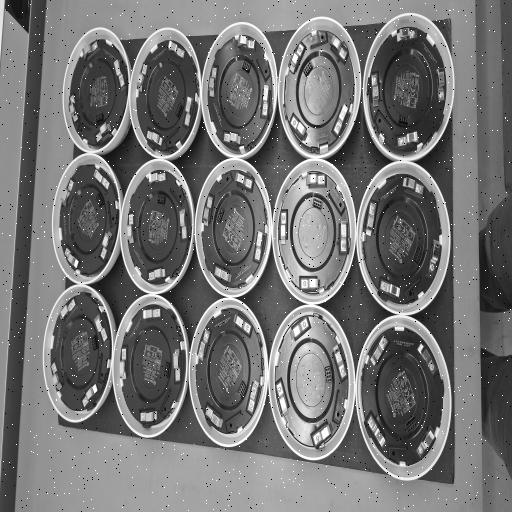konnektor: (406, 415, 418, 434), (413, 245, 423, 264), (237, 380, 246, 399), (216, 206, 226, 223), (303, 60, 313, 76), (324, 365, 332, 384), (398, 113, 409, 125), (163, 362, 171, 378), (95, 192, 103, 208), (174, 102, 182, 118), (242, 60, 251, 73), (91, 334, 98, 350), (96, 112, 104, 124), (157, 194, 165, 205)
yayli: (366, 412, 386, 448), (418, 342, 438, 376), (310, 420, 333, 448), (416, 427, 436, 459), (332, 342, 348, 381), (369, 336, 388, 367), (332, 104, 349, 138), (275, 377, 289, 418), (289, 316, 311, 341), (246, 379, 261, 415), (330, 34, 348, 63), (290, 113, 308, 142), (401, 176, 424, 198), (429, 240, 442, 277), (197, 328, 211, 361), (379, 278, 400, 300), (233, 313, 253, 336), (396, 131, 419, 150), (94, 313, 108, 344), (366, 202, 378, 238), (93, 167, 110, 192), (206, 404, 223, 428), (100, 230, 113, 260), (82, 383, 98, 407), (234, 172, 254, 191), (95, 120, 112, 142), (260, 84, 271, 118), (61, 180, 74, 208), (202, 196, 214, 226), (299, 275, 319, 293), (60, 298, 76, 320), (64, 247, 79, 270), (51, 362, 62, 392), (254, 230, 264, 263), (371, 72, 380, 108), (339, 220, 348, 256), (306, 171, 326, 187), (183, 96, 193, 128), (114, 59, 125, 88), (137, 64, 148, 92), (146, 129, 163, 147), (82, 41, 97, 61), (397, 27, 417, 42), (208, 67, 218, 96), (214, 266, 231, 283), (120, 346, 128, 382), (437, 68, 445, 103), (68, 95, 78, 123), (280, 210, 288, 245), (168, 41, 184, 58), (146, 172, 166, 185), (173, 350, 181, 382), (238, 35, 255, 50), (180, 208, 188, 239), (148, 268, 165, 282), (224, 131, 241, 145), (143, 308, 161, 320), (140, 410, 156, 422), (127, 224, 134, 242)
